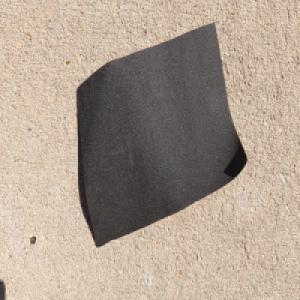PaintChip: (76, 20, 248, 248)
